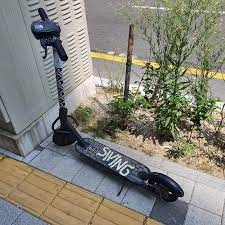guide_blocks: (1, 161, 84, 225)
kick_handler: (30, 9, 68, 61)
kick_neck: (52, 53, 66, 107)
kick_wheel: (151, 172, 176, 201), (54, 126, 75, 146)
